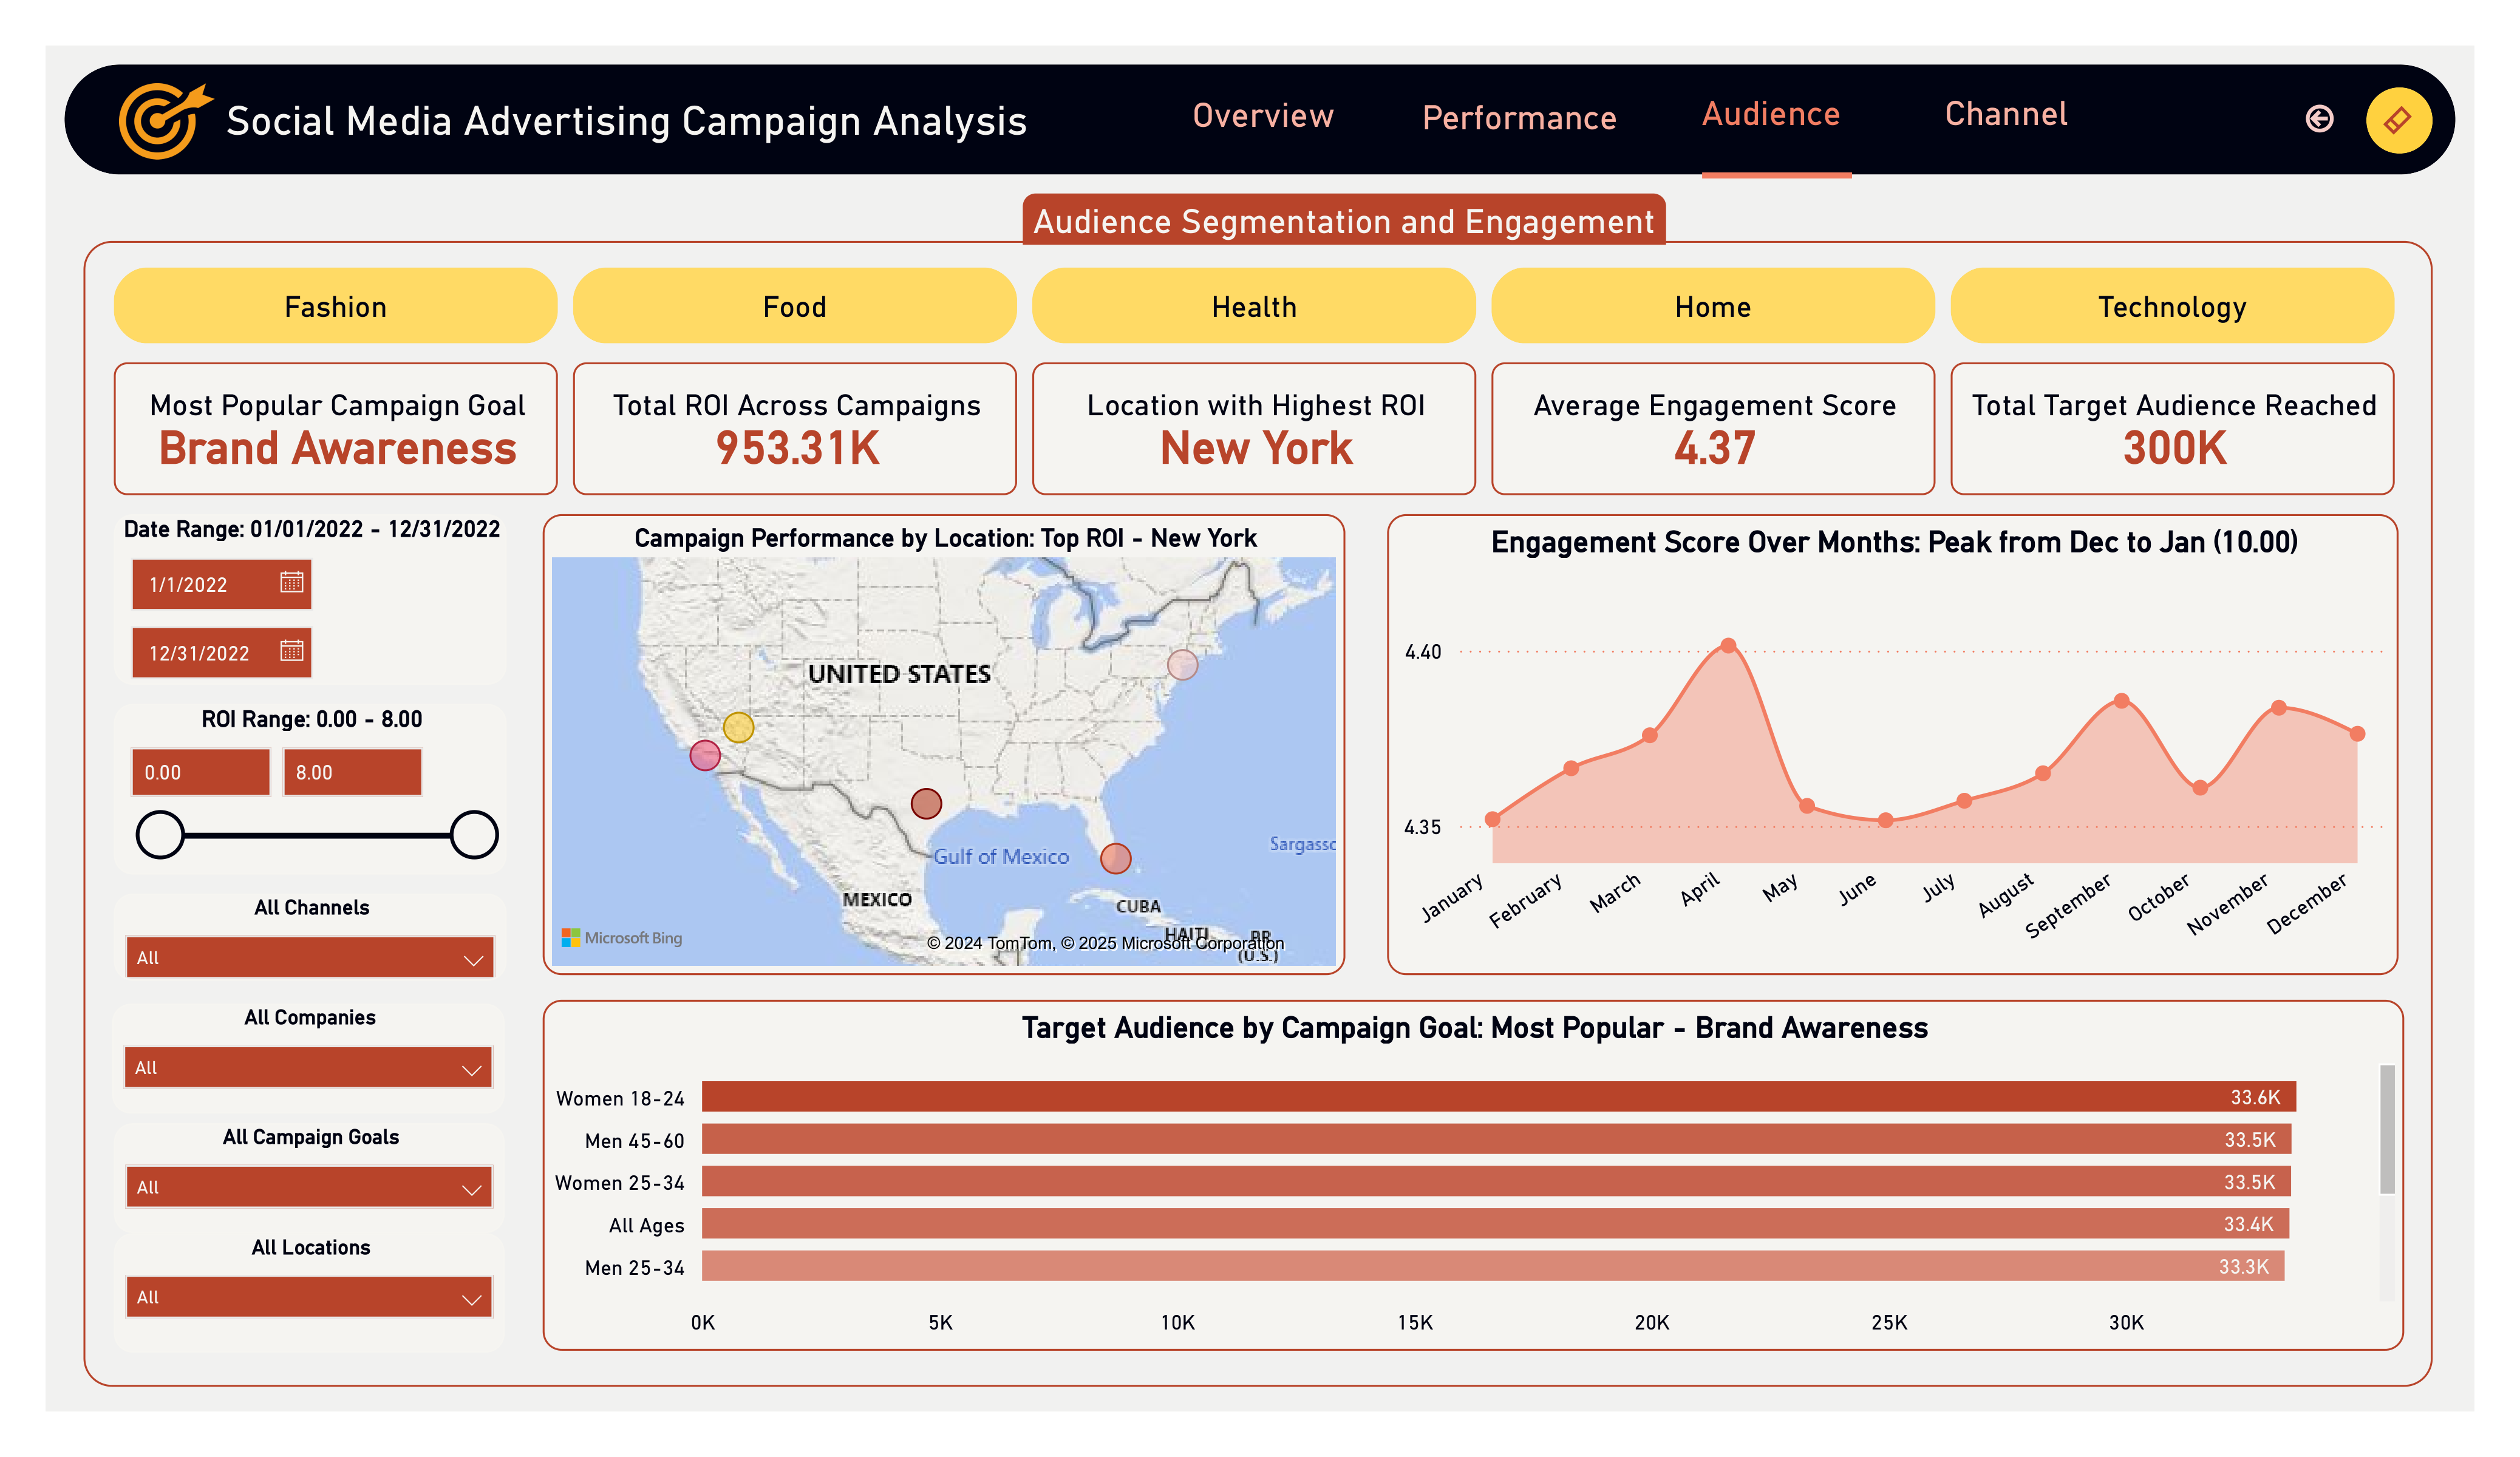

Layout of this report page (visuals, bound fields, positions):
{"tool":"powerbi","page":{"name":"Audience Analysis","canvas":[1280,720],"ordinal":2},"visuals":[{"type":"shape","box":[0,0,1280,78.3],"z":0},{"type":"textbox","box":[95,26.7,460,40],"z":1000},{"type":"actionButton","box":[1223.3,21.7,35,35],"z":2000},{"type":"actionButton","box":[571.7,16.7,140,38.3],"z":3000},{"type":"shape","box":[863.3,56.7,98.3,23.3],"z":4000},{"type":"actionButton","box":[707.2,16.7,140,40],"z":5000},{"type":"actionButton","box":[842.8,16.7,133.3,36.7],"z":6000},{"type":"actionButton","box":[971.7,16.7,123.3,36.7],"z":7000},{"type":"image","box":[20,10,88.3,60],"z":8000},{"type":"actionButton","box":[1181.7,21.7,33.3,33.3],"z":9000},{"type":"shape","box":[20,103.3,1238.3,603.3],"z":10000},{"type":"shape","box":[505,67.5,358.8,47.5],"z":11000},{"type":"barChart","fields":{"Y":["CountNonNull(Social_Media_Advertising_cleaned.Campaign_ID)"],"Category":["Social_Media_Advertising_cleaned.Target_Audience"]},"box":[261.7,503.3,981.7,185],"z":12000},{"type":"map","fields":{"Size":["All measures.ROI_By_Location"],"Category":["Social_Media_Advertising_cleaned.Location"],"Series":["Social_Media_Advertising_cleaned.Location"]},"box":[261.7,246.7,423.3,243.3],"z":13000},{"type":"lineChart","fields":{"Y":["All measures.Engagement_Over_Time"],"Category":["Social_Media_Advertising_cleaned.Month Name"]},"box":[706.7,246.7,533.3,243.3],"z":14000},{"type":"cardVisual","fields":{"Data":["All measures.Most Frequent Campaign Goal","All measures.Total ROI","All measures.Top_ROI_Location","All measures.Avg_Engagement_Score","All measures.Total_Target_Audience"]},"box":[35.6,167.3,1204.9,69.4],"z":15000},{"type":"advancedSlicerVisual","fields":{"Values":["Social_Media_Advertising_cleaned.Customer_Segment"]},"box":[35.6,117.5,1204.9,39.2],"z":16000},{"type":"slicer","fields":{"Values":["Social_Media_Advertising_cleaned.Date"]},"box":[35.7,247.1,207.1,90],"z":17000},{"type":"slicer","fields":{"Values":["Social_Media_Advertising_cleaned.ROI"]},"box":[35.7,347.1,207.1,90],"z":18000},{"type":"slicer","fields":{"Values":["Social_Media_Advertising_cleaned.Channel_Used"]},"box":[35.7,447.1,207.1,45.7],"z":19000},{"type":"slicer","fields":{"Values":["Social_Media_Advertising_cleaned.Company"]},"box":[35,505,206.7,58.3],"z":20000},{"type":"slicer","fields":{"Values":["Social_Media_Advertising_cleaned.Campaign_Goal"]},"box":[35.6,567.8,206.7,57.8],"z":21000},{"type":"slicer","fields":{"Values":["Social_Media_Advertising_cleaned.Location"]},"box":[35.6,625.6,206.7,63.3],"z":22000}]}

Visuals, with their boxes on the page's 1280x720 design canvas (x1, y1, x2, y2). These are canvas units, not pixel positions in the 2520x1457 screenshot, which may show the page scaled, cropped or inside an application window:
shape: BBox(0, 0, 1280, 78)
textbox: BBox(95, 27, 555, 67)
actionButton: BBox(1223, 22, 1258, 57)
actionButton: BBox(572, 17, 712, 55)
shape: BBox(863, 57, 962, 80)
actionButton: BBox(707, 17, 847, 57)
actionButton: BBox(843, 17, 976, 53)
actionButton: BBox(972, 17, 1095, 53)
image: BBox(20, 10, 108, 70)
actionButton: BBox(1182, 22, 1215, 55)
shape: BBox(20, 103, 1258, 707)
shape: BBox(505, 68, 864, 115)
barChart - CountNonNull(Social_Media_Advertising_cleaned.Campaign_ID) x Social_Media_Advertising_cleaned.Target_Audience: BBox(262, 503, 1243, 688)
map - All measures.ROI_By_Location x Social_Media_Advertising_cleaned.Location: BBox(262, 247, 685, 490)
lineChart - All measures.Engagement_Over_Time x Social_Media_Advertising_cleaned.Month Name: BBox(707, 247, 1240, 490)
cardVisual - All measures.Most Frequent Campaign Goal x All measures.Total ROI: BBox(36, 167, 1240, 237)
advancedSlicerVisual - Social_Media_Advertising_cleaned.Customer_Segment: BBox(36, 118, 1240, 157)
slicer - Social_Media_Advertising_cleaned.Date: BBox(36, 247, 243, 337)
slicer - Social_Media_Advertising_cleaned.ROI: BBox(36, 347, 243, 437)
slicer - Social_Media_Advertising_cleaned.Channel_Used: BBox(36, 447, 243, 493)
slicer - Social_Media_Advertising_cleaned.Company: BBox(35, 505, 242, 563)
slicer - Social_Media_Advertising_cleaned.Campaign_Goal: BBox(36, 568, 242, 626)
slicer - Social_Media_Advertising_cleaned.Location: BBox(36, 626, 242, 689)
